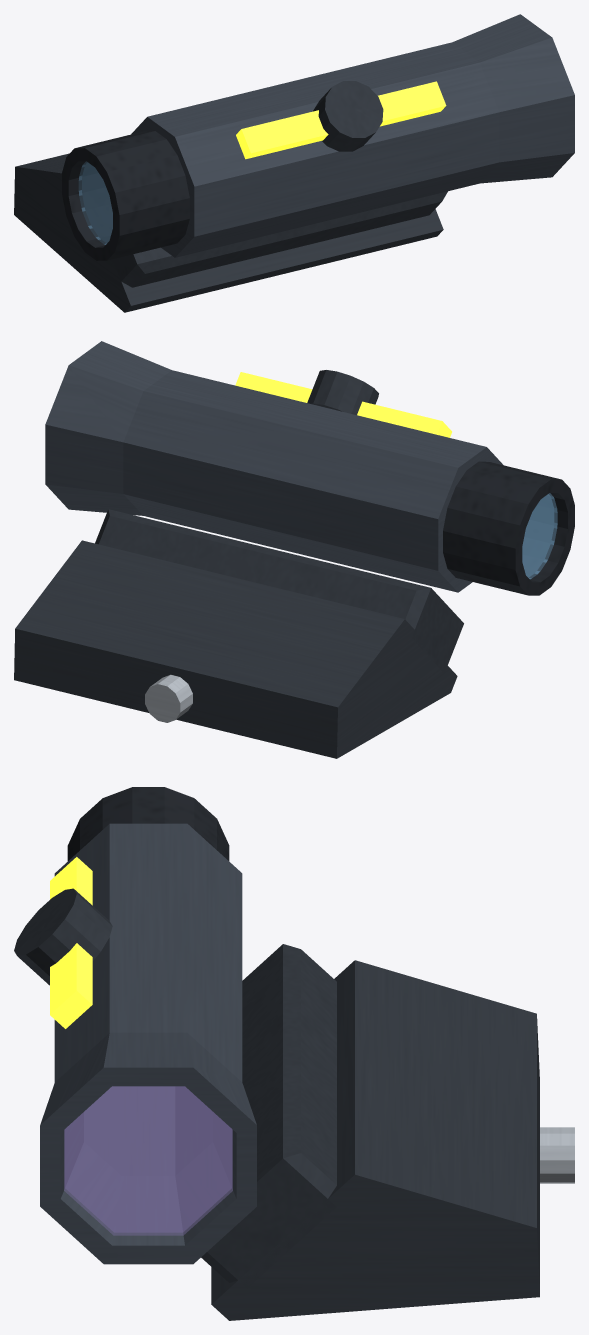
File: sight_prism_canted_v2.glb
The picture shows the model from 3 angles, top to bottom: view 1: azimuth 30°, elevation 25°; view 2: azimuth 150°, elevation 25°; view 3: azimuth 270°, elevation 25°; orthographic projection. The views are drawn at different scales.
Visible parts, largest first — view 1: sight_prism_canted_mesh; view 2: sight_prism_canted_mesh; view 3: sight_prism_canted_mesh.
Boxes of the visible parts, bbox=[...] form: sight_prism_canted_mesh: bbox=[14, 14, 574, 312]; sight_prism_canted_mesh: bbox=[14, 341, 574, 758]; sight_prism_canted_mesh: bbox=[14, 787, 574, 1320].
Bounding box in the file's own units: 0.114 × 0.0566 × 0.0884.
10 materials, 6 textured.
